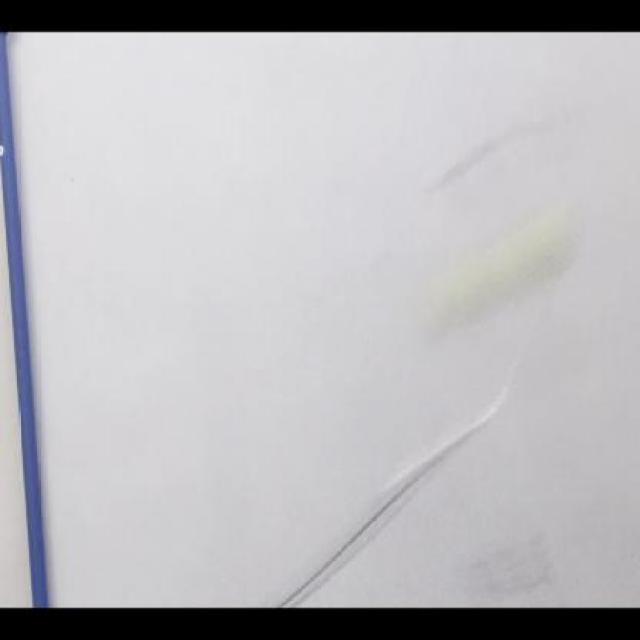baseball: (420, 207, 578, 342)
